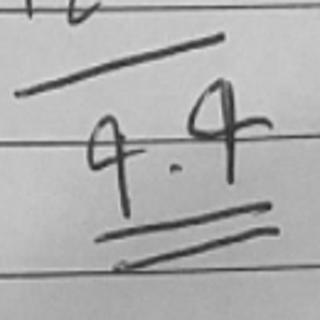.: (162, 156, 186, 180)
4: (186, 77, 270, 187), (83, 108, 149, 222)
